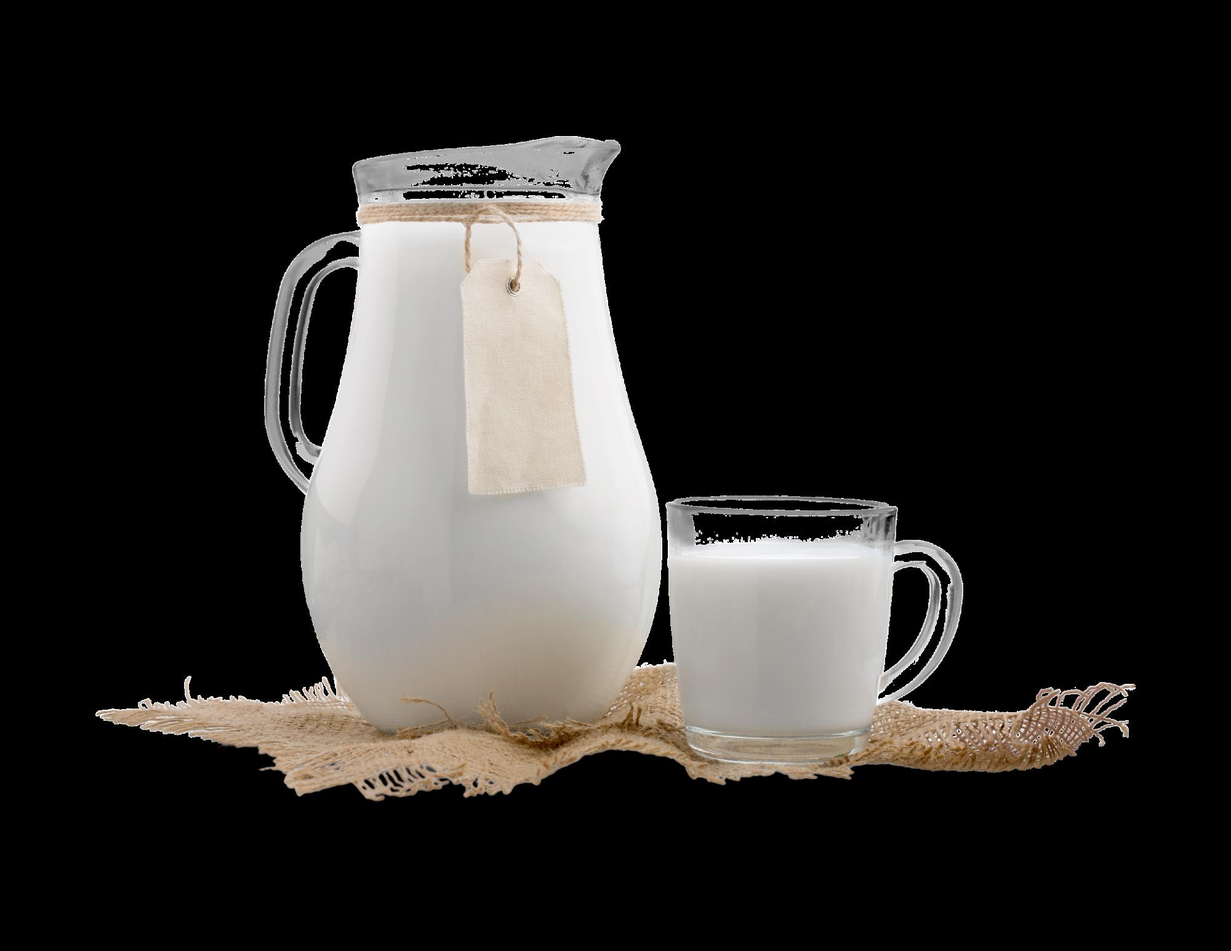produk_susu: (369, 171, 592, 709), (687, 499, 880, 741)
